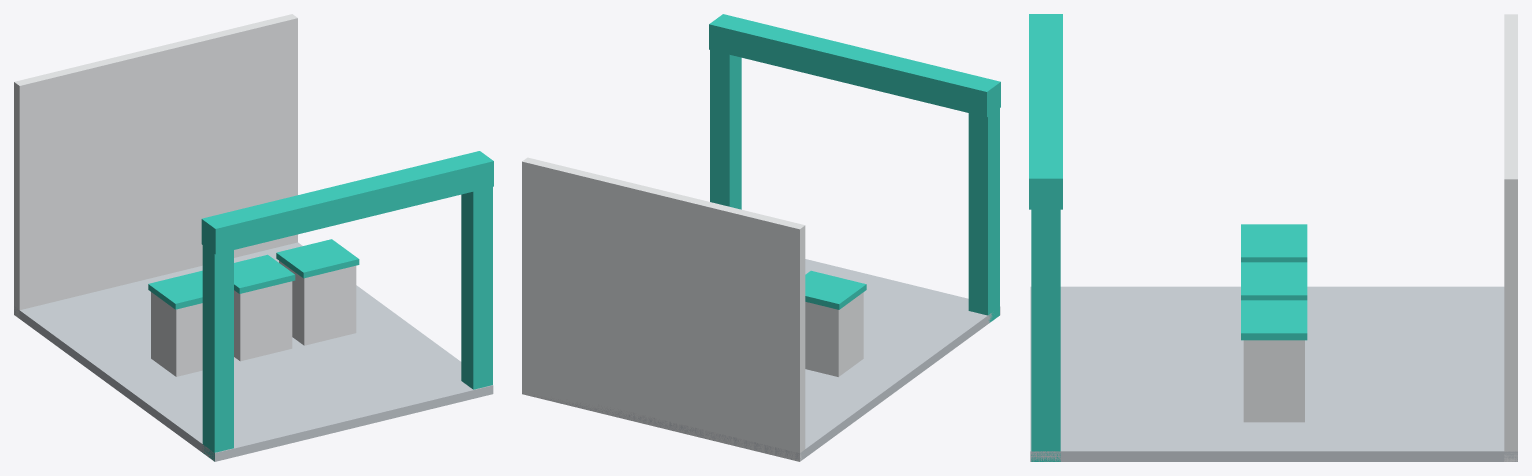
The picture shows the model from 3 angles, left to right: view 1: azimuth 30°, elevation 25°; view 2: azimuth 150°, elevation 25°; view 3: azimuth 270°, elevation 25°; orthographic projection. The views are drawn at different scales.
Parts seen in each view (by area): view 1: Exhibition Booth Concept; view 2: Exhibition Booth Concept; view 3: Exhibition Booth Concept.
Boxes of the visible parts, x1=… form: Exhibition Booth Concept: x1=14, y1=14, x2=493, y2=461; Exhibition Booth Concept: x1=522, y1=14, x2=1000, y2=461; Exhibition Booth Concept: x1=1029, y1=14, x2=1517, y2=461.
Size of the model in its own units: 4 by 3.2 by 5.02.
